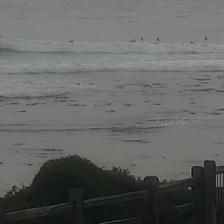surfer: (129, 38, 136, 42), (140, 36, 144, 41), (156, 36, 160, 41), (204, 36, 208, 41), (68, 40, 73, 43), (190, 41, 194, 44), (0, 34, 1, 40)
